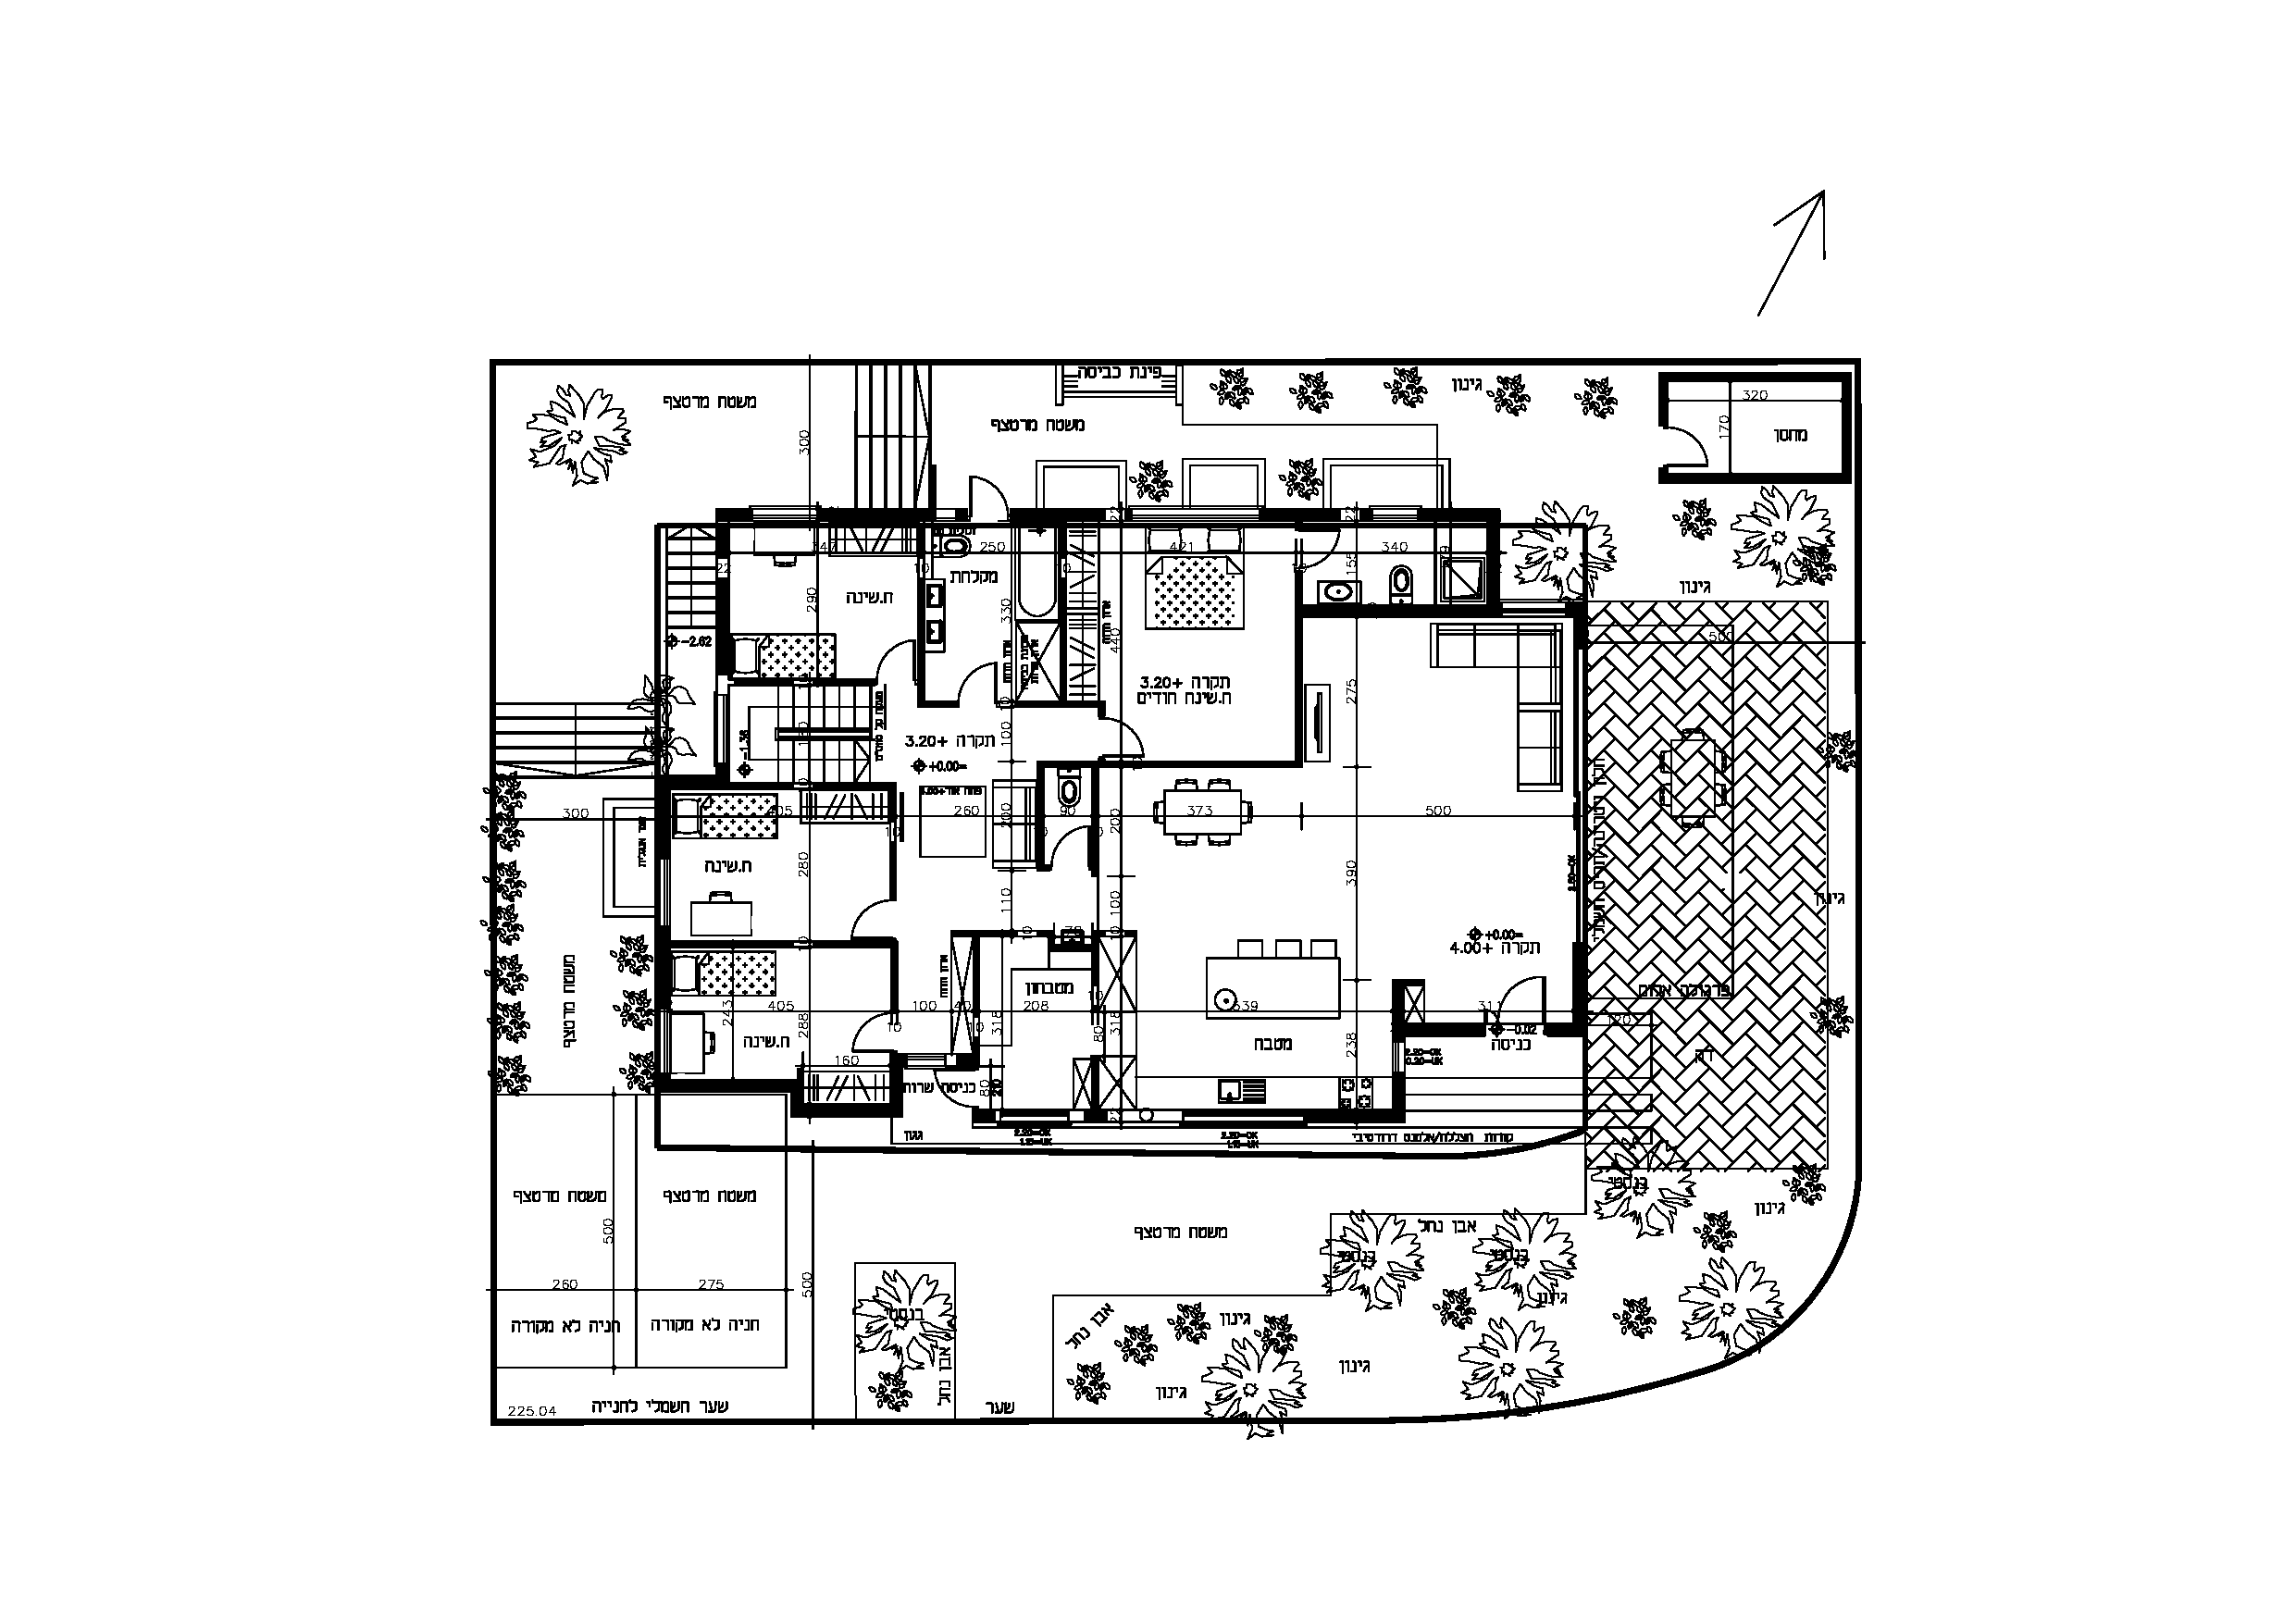door: (966, 471, 1010, 527), (1497, 970, 1555, 1008), (956, 655, 1001, 699), (847, 898, 892, 941), (845, 1010, 891, 1054), (1047, 826, 1093, 869), (875, 636, 917, 682)
